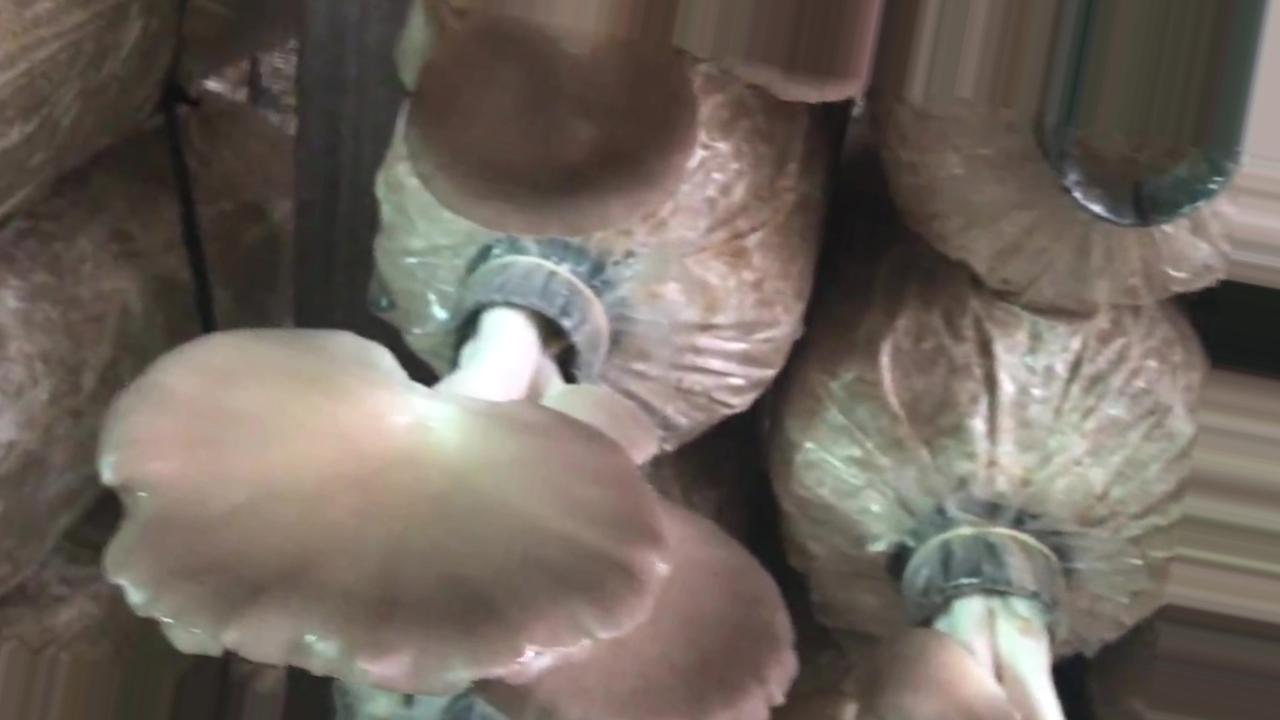nam: (88, 241, 675, 702), (396, 1, 868, 241), (474, 496, 802, 720), (808, 530, 1077, 720)
